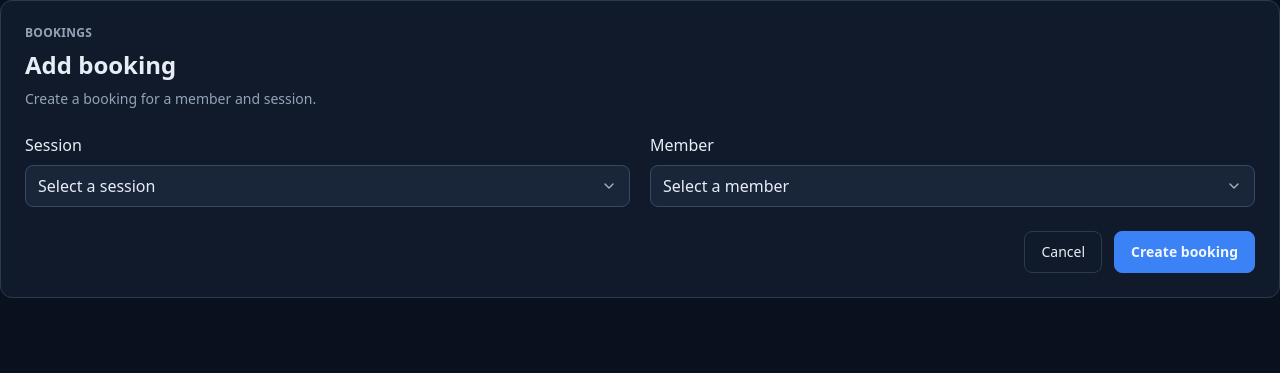
Test: CreateBookingForm › renders availability failure message returned by the action
Click the button with aria-label "session:" at (97, 186), box 25,165 -> 630,207
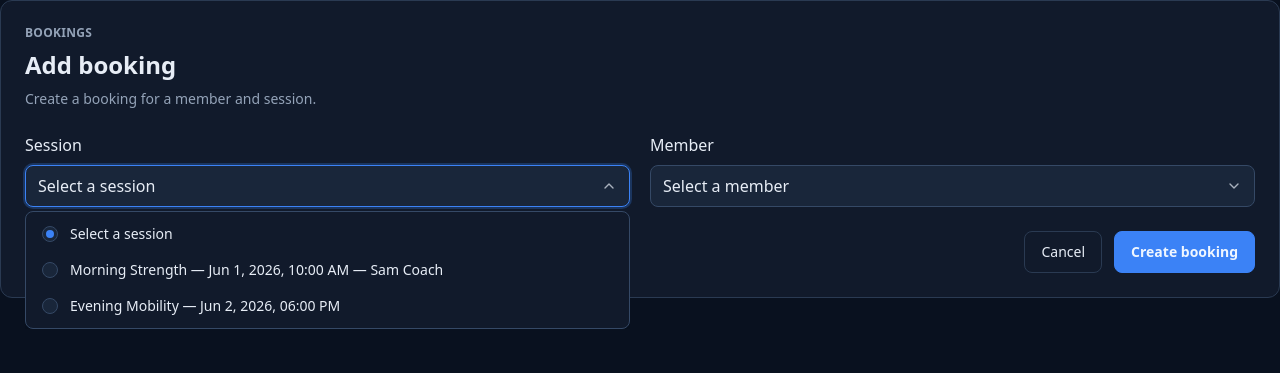
Click the radio button with aria-label "session: morning strength" at (243, 270), box 42,260 -> 443,279
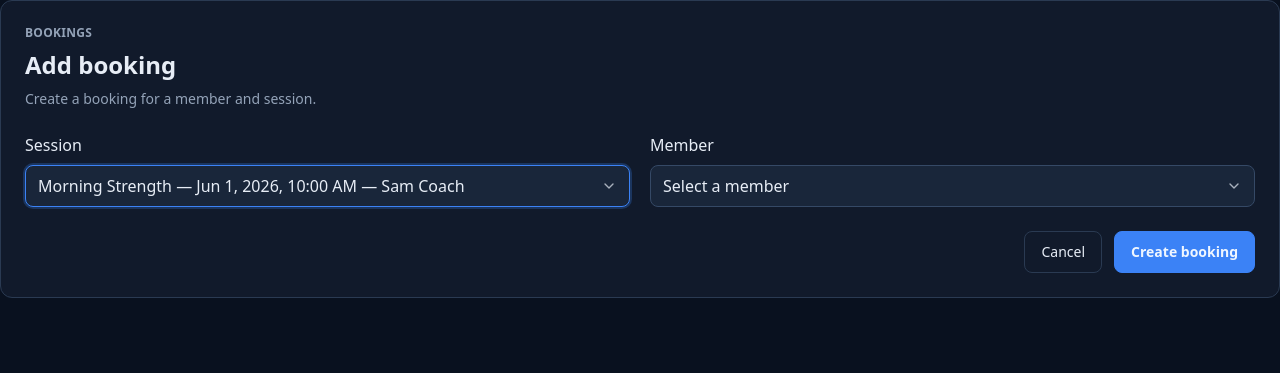
Click the button with aria-label "member:" at (726, 186), box 650,165 -> 1255,207
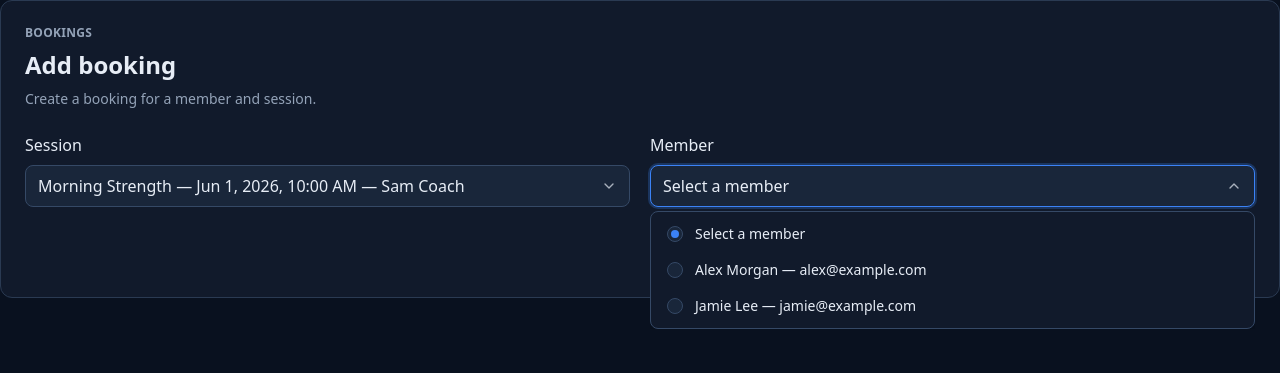
Click the radio button with aria-label "member: alex morgan" at (797, 270), box 667,260 -> 927,279
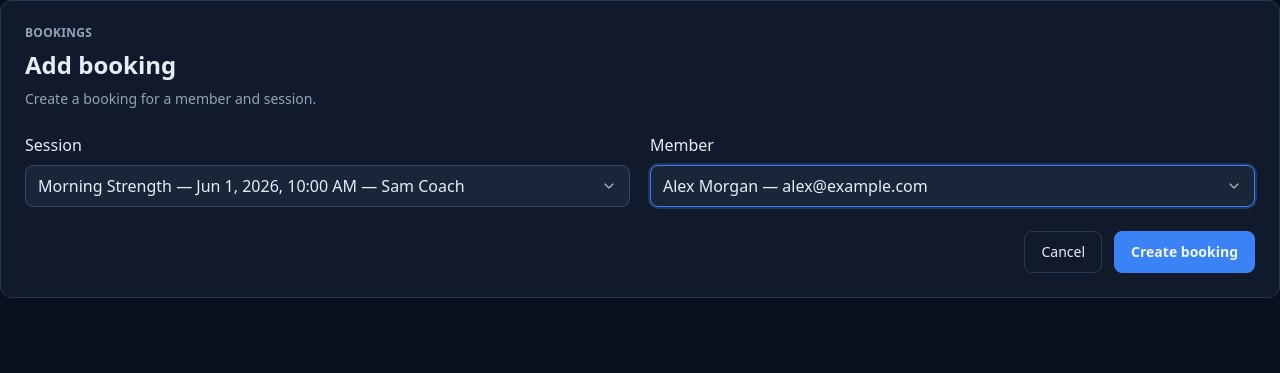
Click the button "Create booking" at (1185, 252), box 1114,231 -> 1255,273
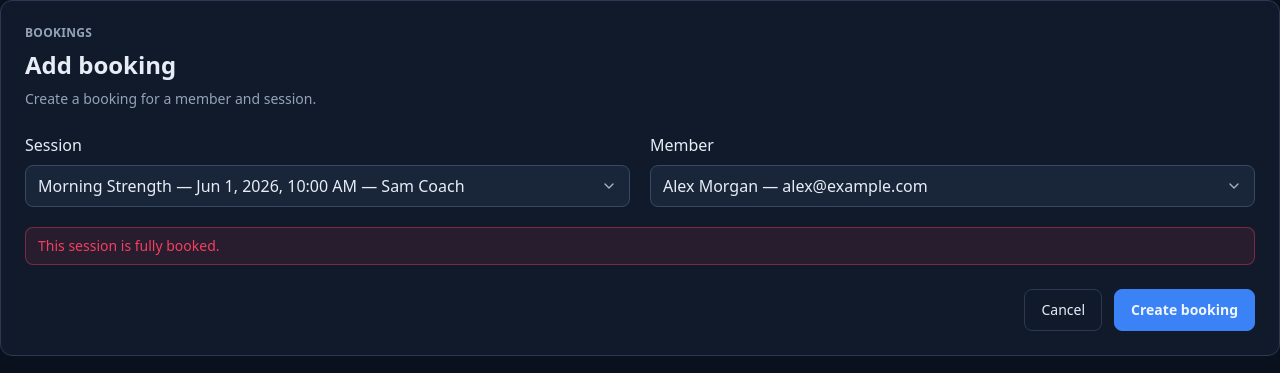
Check: the message reads "This session is fully booked.", box 38,236 -> 220,255
